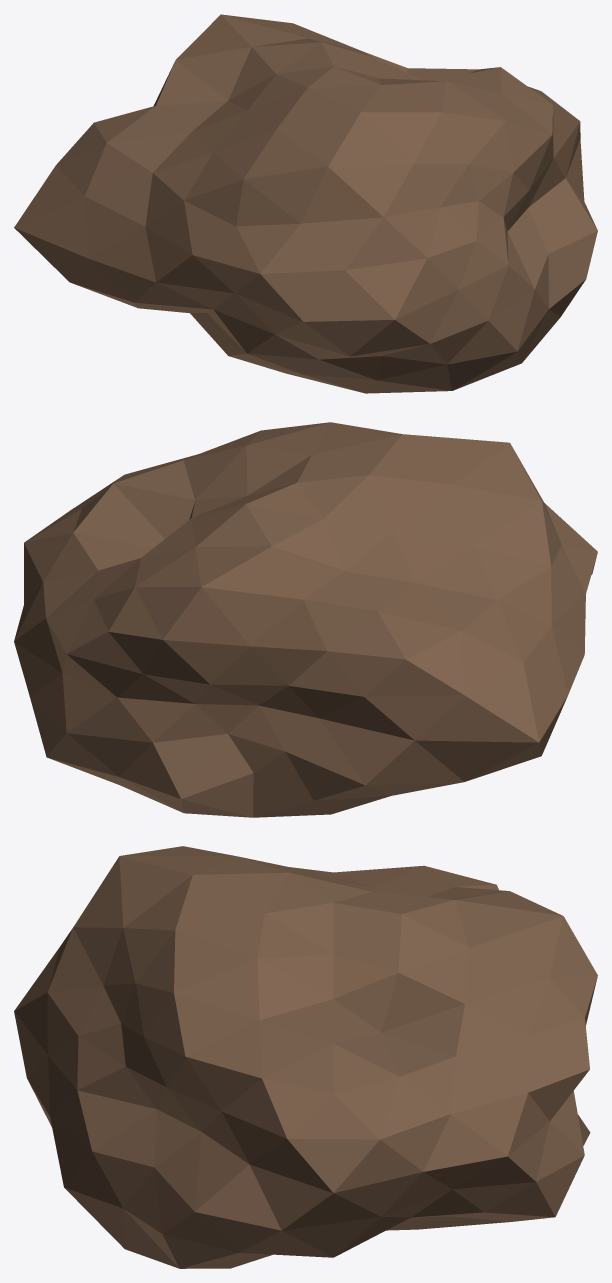
File: asteroid_c.glb
3 renders of one model, top to bottom at view 1: azimuth 30°, elevation 25°; view 2: azimuth 150°, elevation 25°; view 3: azimuth 270°, elevation 25°, orthographic. The views are drawn at different scales.
Visible parts, largest first — view 1: rock; view 2: rock; view 3: rock.
Part boxes in pixels (box(x1,y1,x2,y2)): rock: box(14, 14, 597, 393); rock: box(14, 422, 597, 817); rock: box(14, 846, 597, 1268).
Size of what is drawn, in the model's own units: 11.87 by 6.36 by 10.13.
